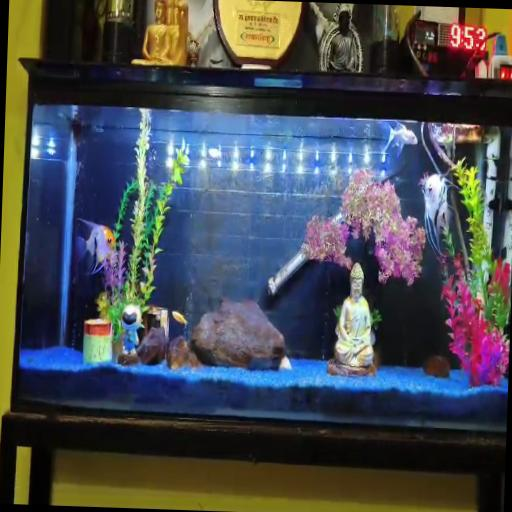Fish: (421, 174, 454, 255), (75, 218, 115, 275), (384, 122, 417, 157), (122, 305, 143, 353), (172, 311, 187, 325), (208, 145, 221, 158)
